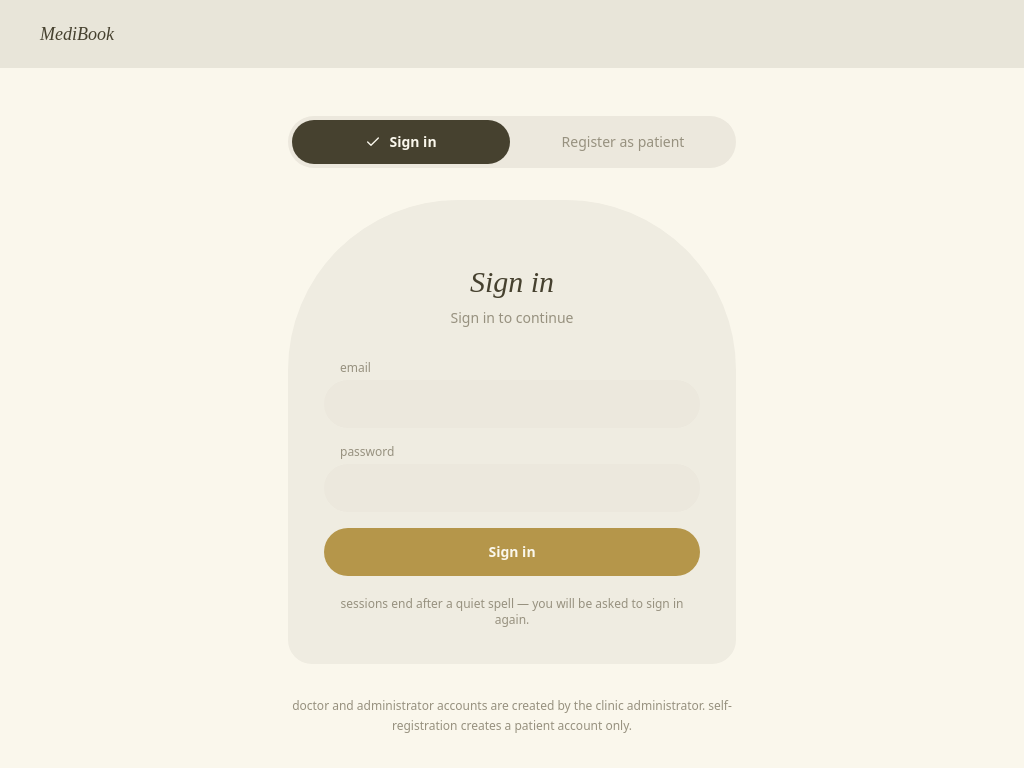
Test: SignIn screen - patient registration › every required test ID of the Sign In & Register screen is present
This screenshot has width=1024, height=768.
Expected: the heading "MediBook" is shown, [40, 24, 114, 44]
Expected: the element with test id "tabs-1" is shown, [288, 116, 736, 168]
Click the tab with test id "register-as-patient-tab" at (623, 142), box [514, 120, 732, 164]
(page scrolled)
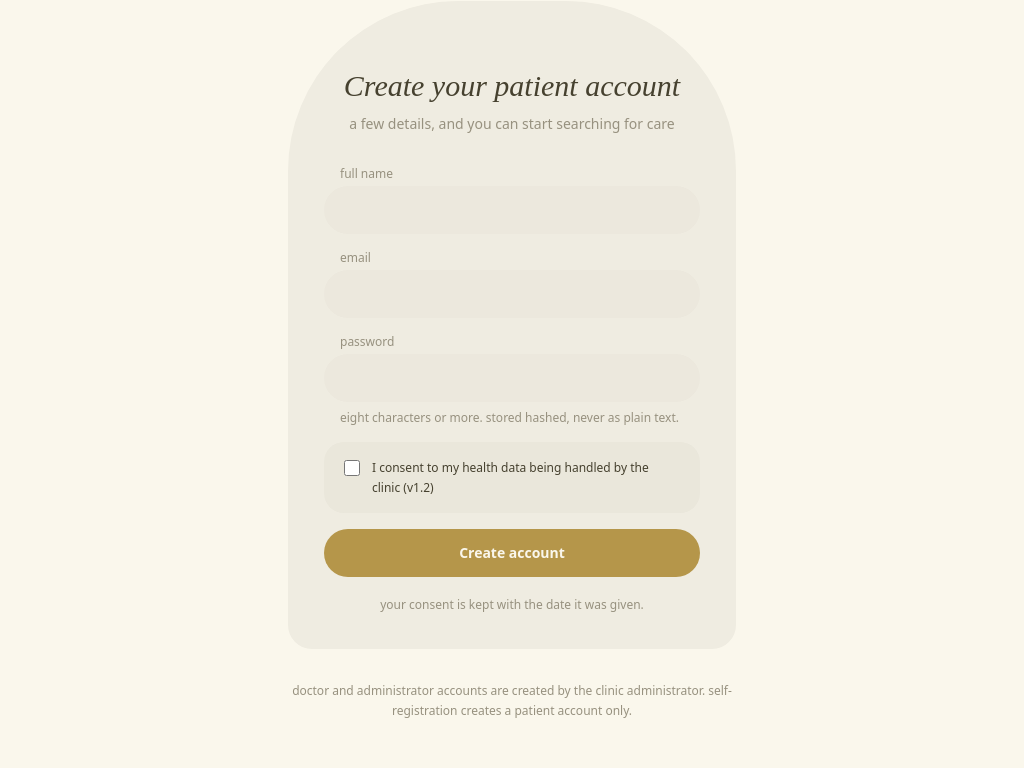
Result: the form with test id "create-your-patient-account-form" is shown at [324, 166, 700, 513]
Result: the checkbox with test id "i-consent-to-my-health-data-being-input" is shown at [344, 460, 360, 476]
Result: the button with test id "create-account-btn" is shown at [324, 529, 700, 577]
